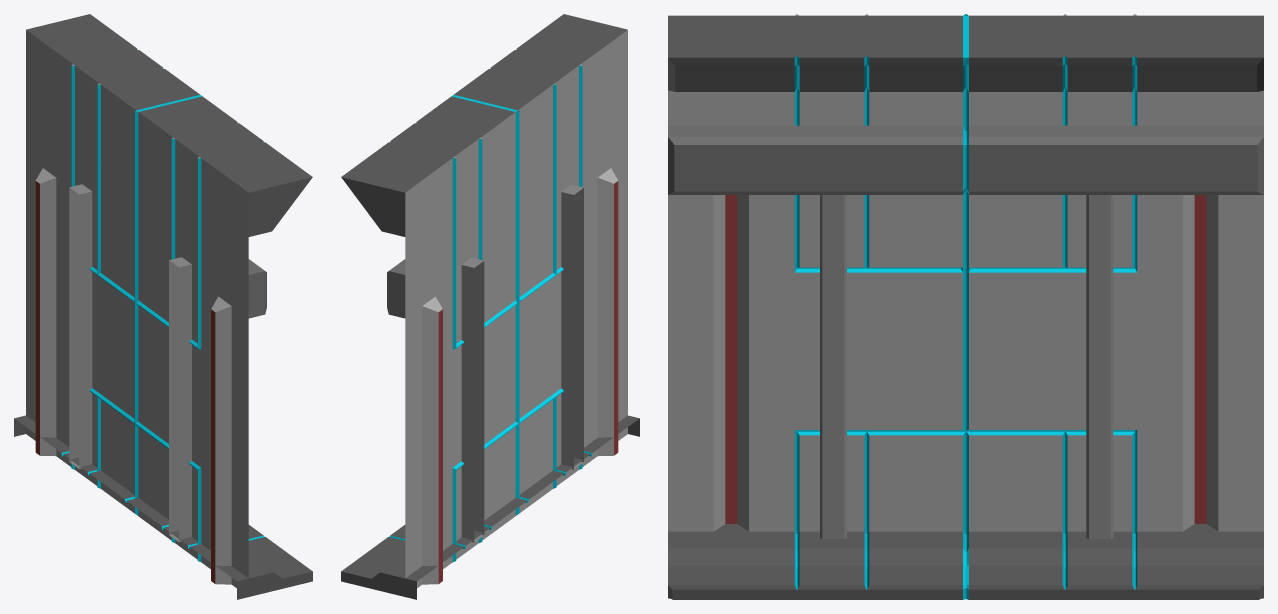
The model's file is SM_Module_7.fbx.
3 renders of one model, left to right at view 1: azimuth 30°, elevation 25°; view 2: azimuth 150°, elevation 25°; view 3: azimuth 270°, elevation 25°, orthographic. The views are drawn at different scales.
Visible parts, largest first — view 1: SM_Module_01; view 2: SM_Module_01; view 3: SM_Module_01.
Part boxes in pixels (x1,y1,x2,y2): SM_Module_01: (14, 14, 312, 599); SM_Module_01: (341, 14, 639, 599); SM_Module_01: (668, 14, 1263, 599).
Bounding box in the file's own units: 121 × 601 × 599.
